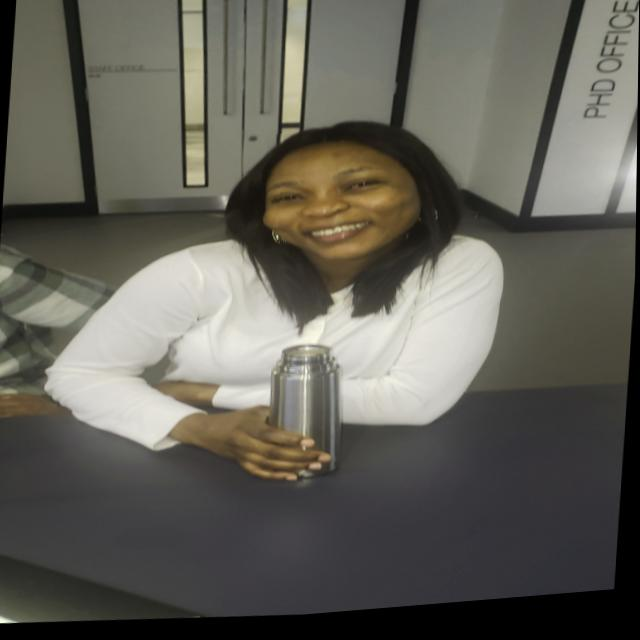happy: (236, 125, 438, 286)
